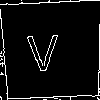V: (26, 25, 59, 72)
